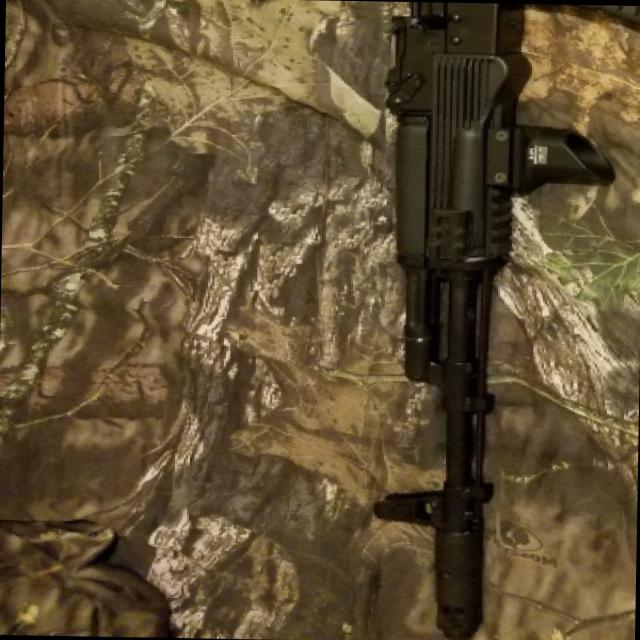Guns: (289, 0, 640, 635)
